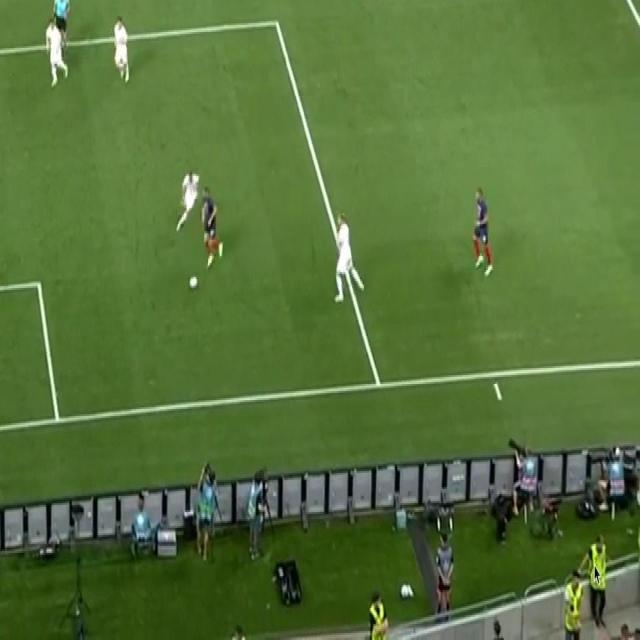ball: (188, 272, 200, 290)
player-white: (332, 207, 368, 308), (470, 183, 498, 288), (198, 183, 225, 272), (42, 17, 70, 92), (174, 170, 201, 244), (112, 13, 132, 89), (46, 0, 72, 55)
